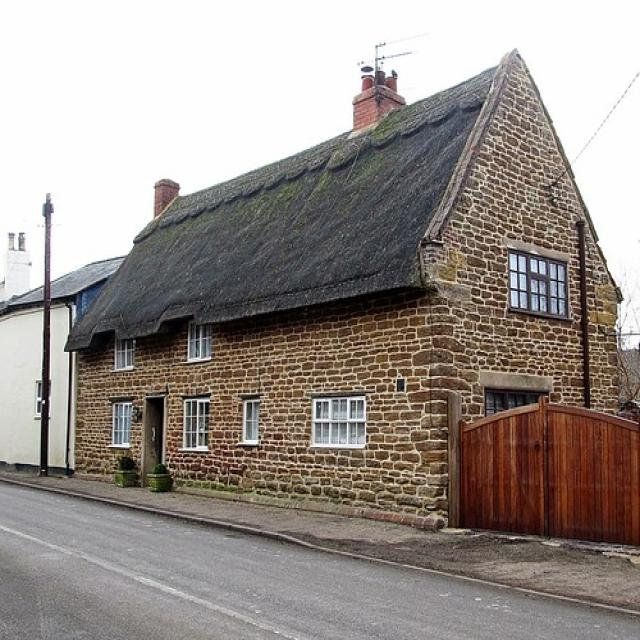building: (63, 44, 628, 528)
